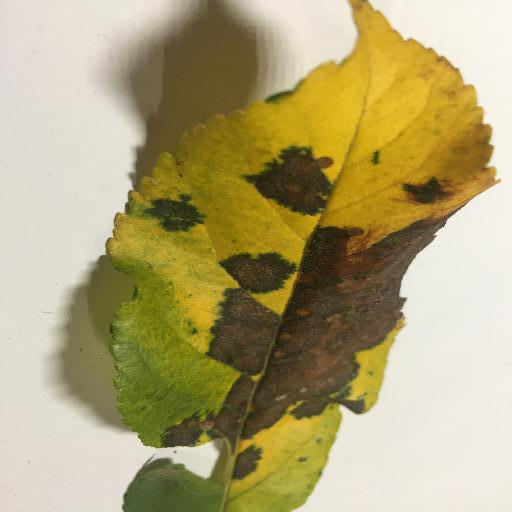Brown_Spot: (163, 200, 448, 460), (245, 146, 334, 208)
